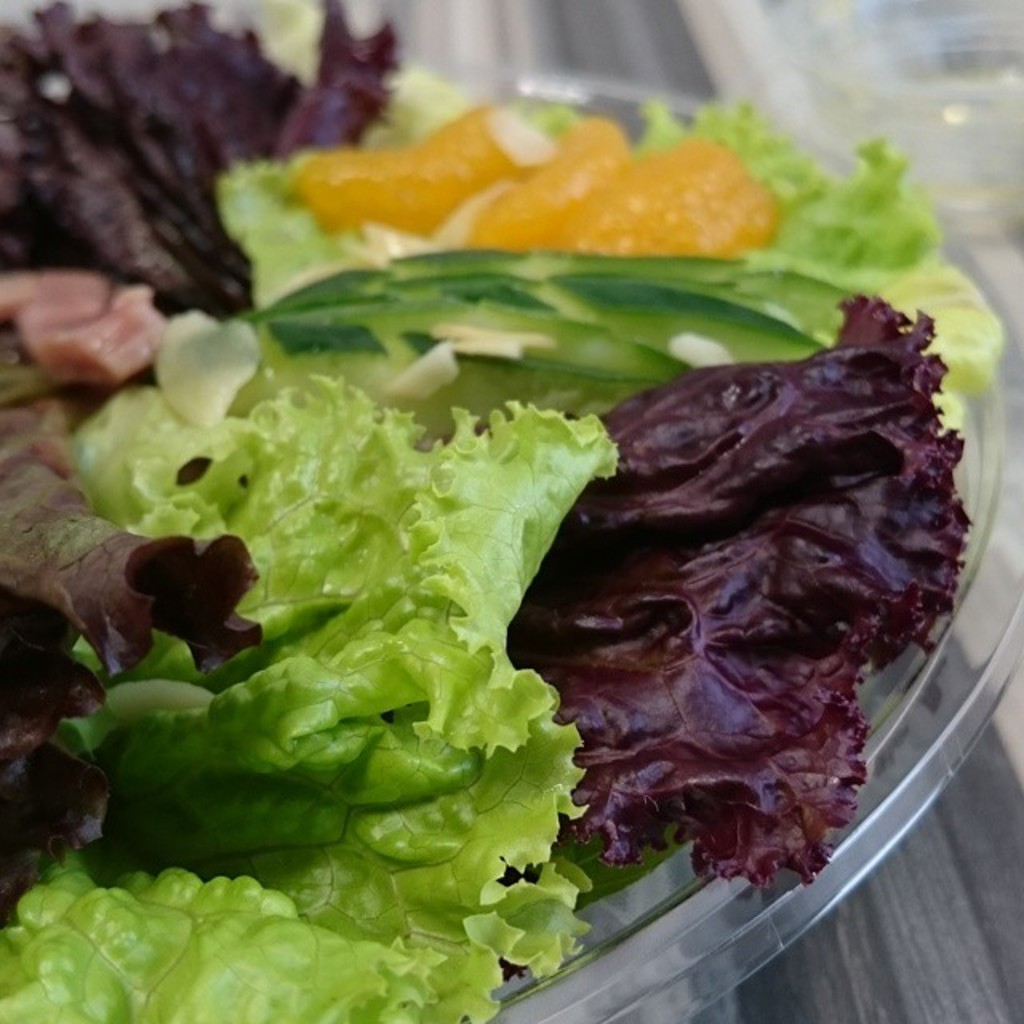Cabbage: (0, 0, 1004, 1024)
